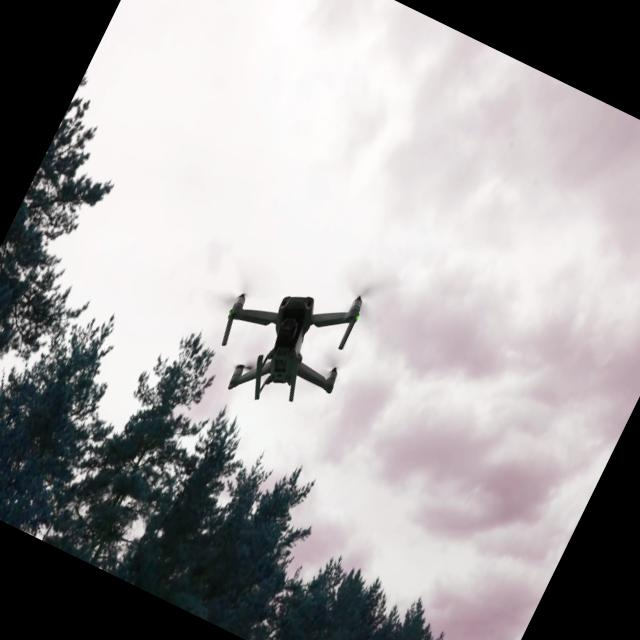drone: (170, 214, 416, 441)
